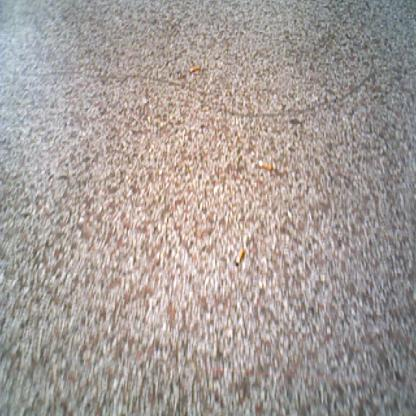dirty: (233, 245, 245, 267), (257, 158, 272, 172), (188, 64, 200, 74)
